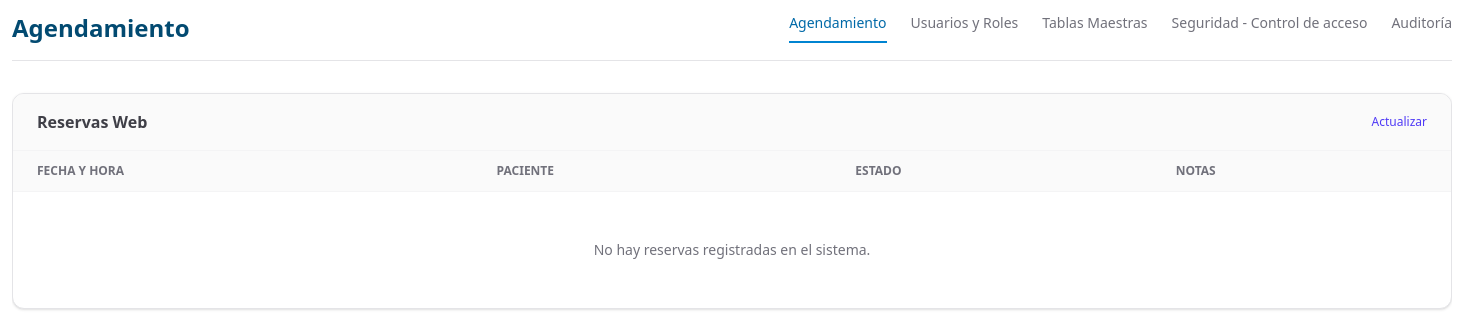
Test: DashboardContent - Admin User Editing › should show Edit button for admin user
Click the button "Usuarios y Roles": x=964, y=28 left=910, top=13, right=1018, bottom=43
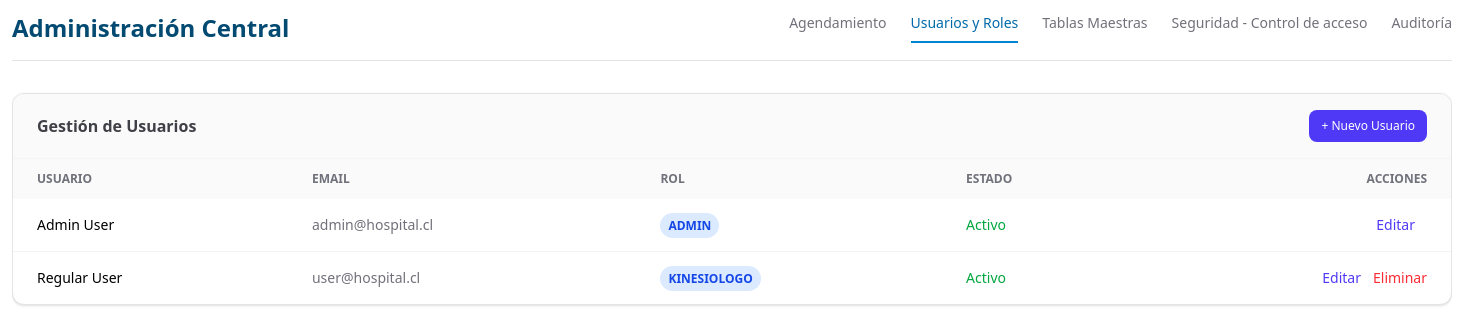
Now the button "Editar" in the row of "Admin User" is shown, box left=1376, top=215, right=1415, bottom=235
